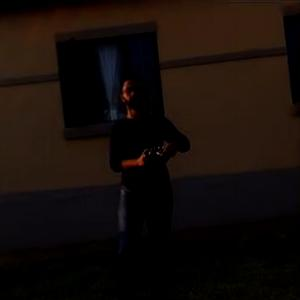follow: (101, 68, 194, 299)
